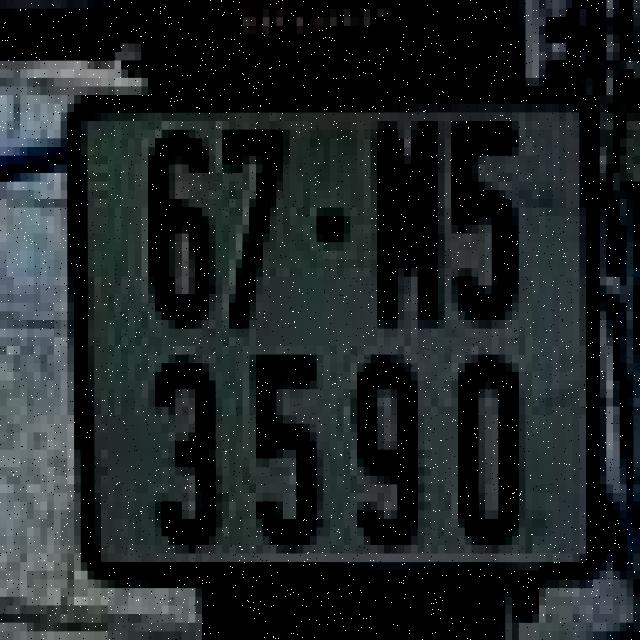0: (448, 337, 536, 562)
3: (145, 346, 226, 553)
5: (236, 342, 337, 558), (448, 108, 536, 333)
6: (124, 125, 226, 333)
7: (219, 116, 300, 342)
9: (347, 342, 434, 549)
M: (367, 112, 441, 338)
